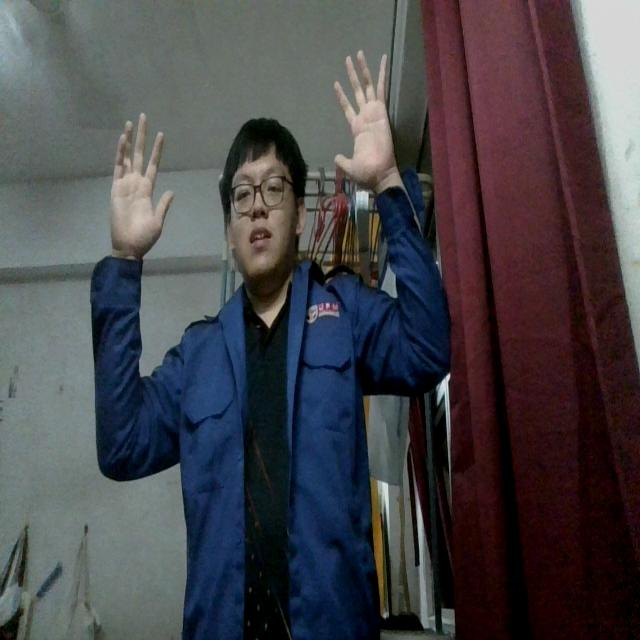person_with_labcoat: (91, 52, 449, 639)
